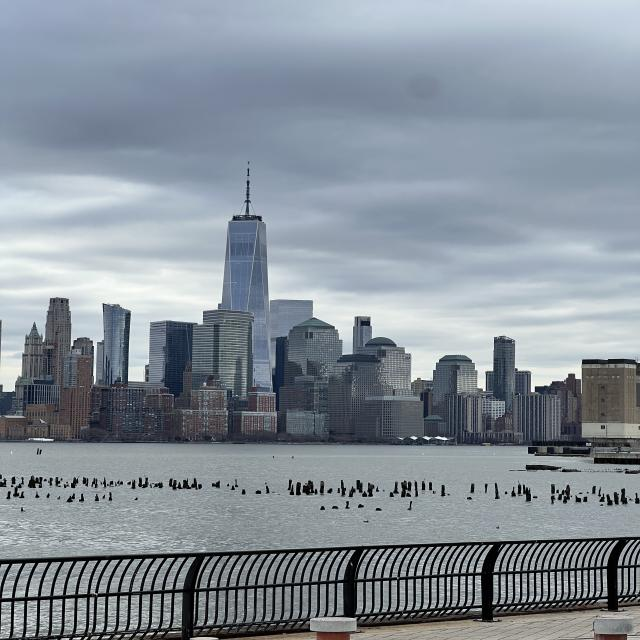WTC: (217, 162, 269, 312)
